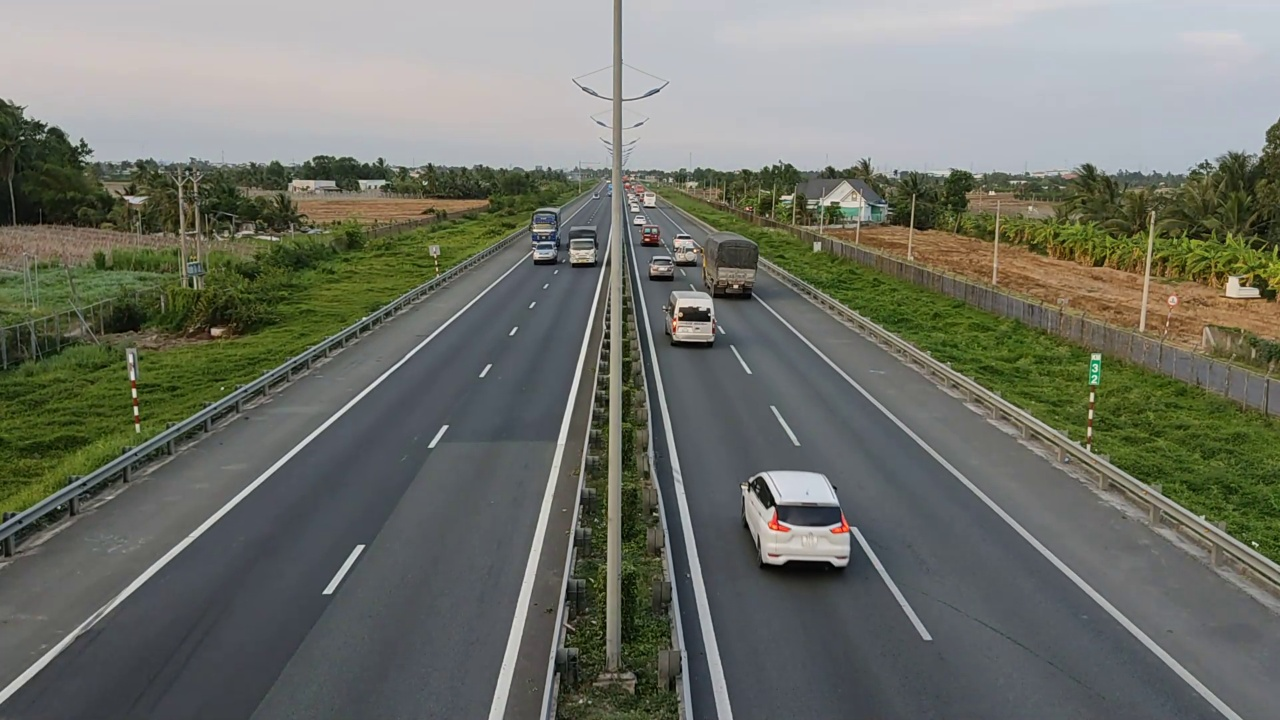car: (739, 469, 851, 569), (663, 290, 717, 347), (648, 254, 676, 280), (641, 225, 663, 245)
truck: (702, 231, 758, 296)
